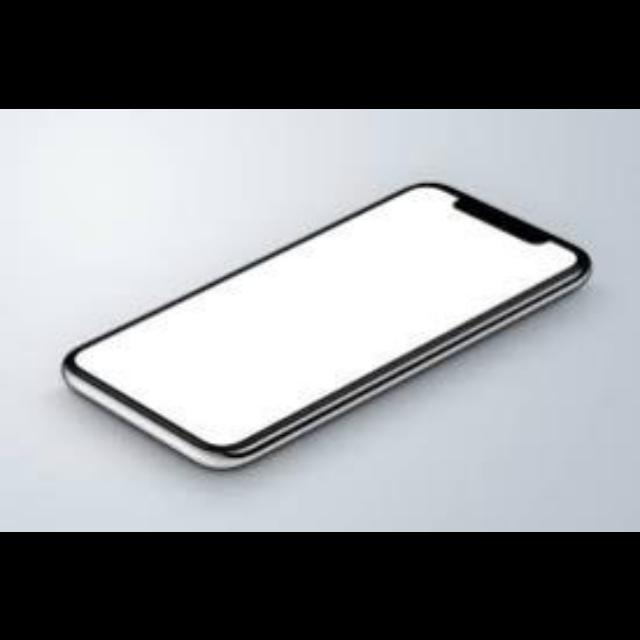Phone: (55, 171, 620, 473)
